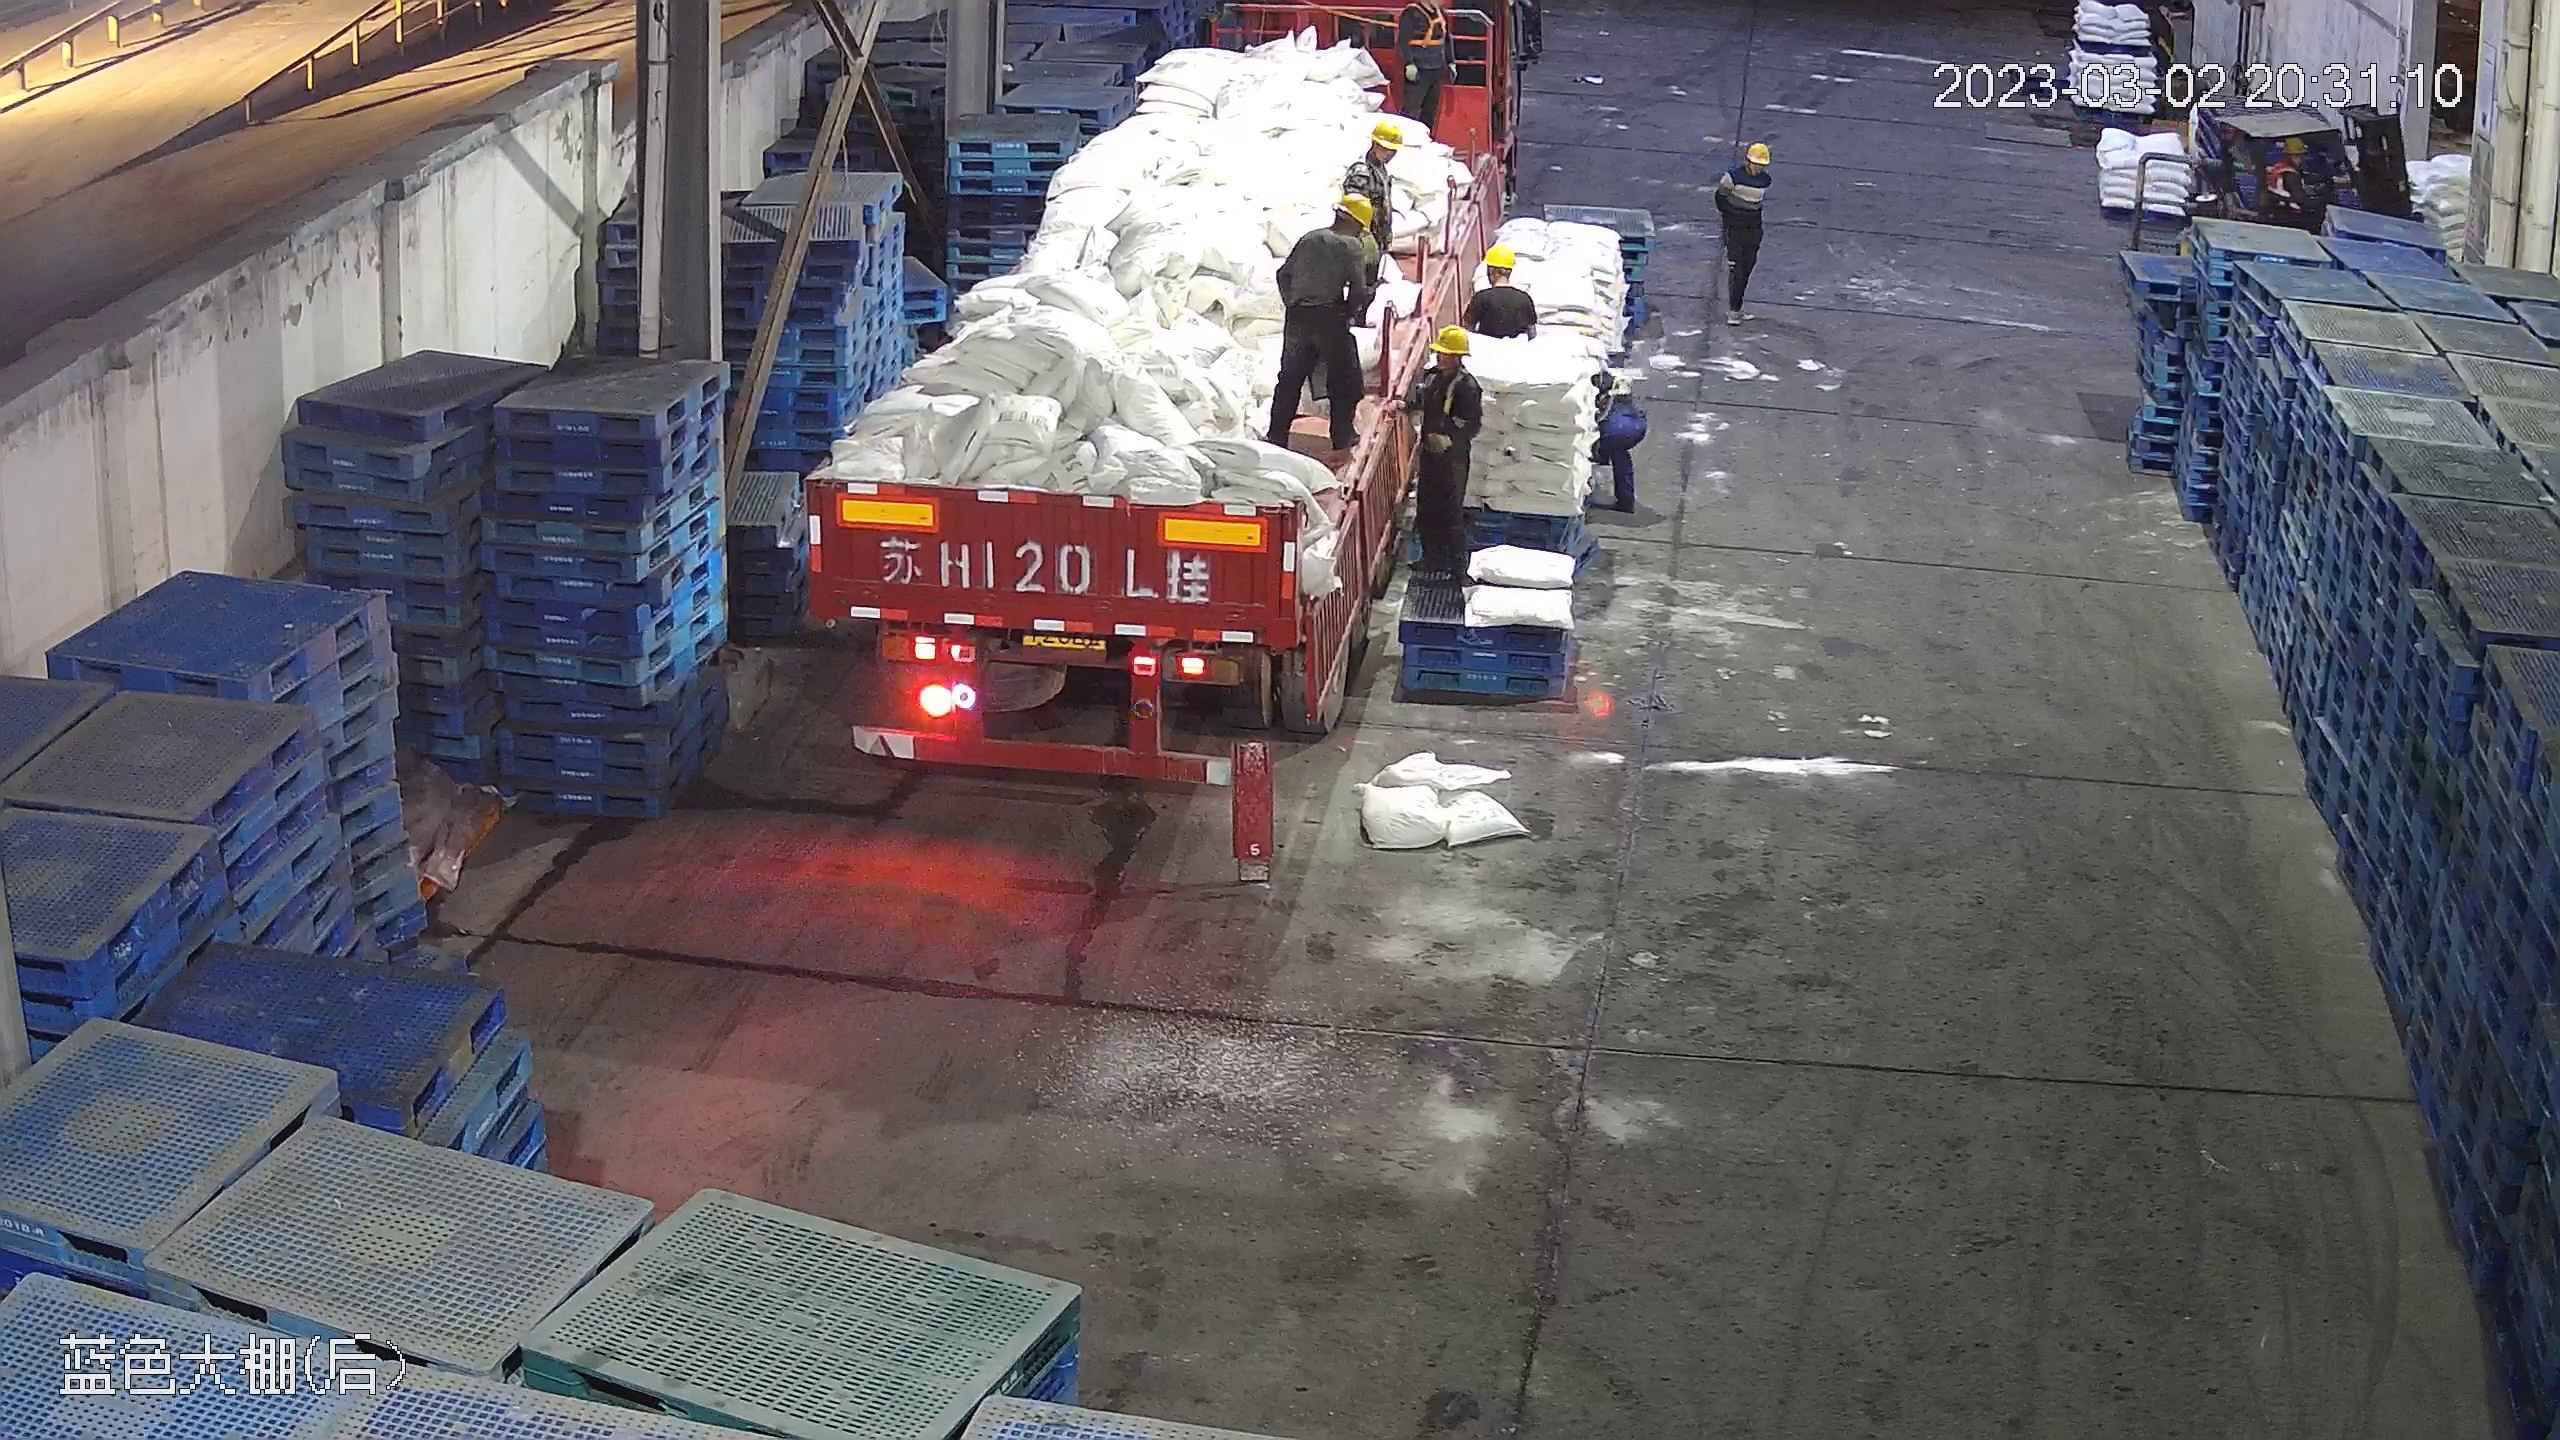belt: (1409, 365, 1470, 435), (1402, 3, 1454, 48), (1717, 164, 1764, 209), (1348, 157, 1391, 202), (1600, 373, 1632, 421)
head: (1293, 190, 1379, 271), (1404, 321, 1484, 403), (1465, 247, 1534, 323), (1340, 118, 1406, 186), (1725, 141, 1776, 193)
helmet: (1335, 191, 1373, 232), (1428, 321, 1471, 353), (1369, 120, 1403, 148), (1481, 244, 1515, 270), (1745, 142, 1770, 163), (2280, 131, 2307, 151)
people: (1263, 186, 1386, 454), (1392, 315, 1485, 605), (1711, 139, 1776, 325), (1589, 367, 1648, 510)
truck: (787, 10, 1458, 777)
